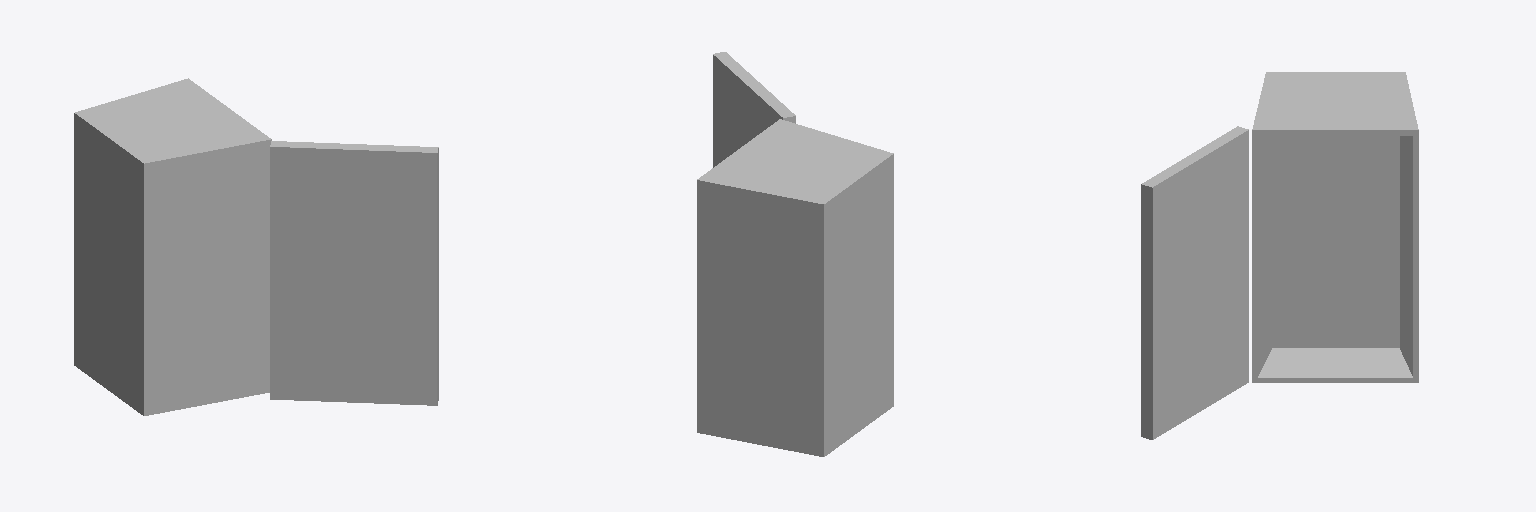
The model's file is FuseBox.obj.
3 renders of one model, left to right at view 1: azimuth 30°, elevation 25°; view 2: azimuth 150°, elevation 25°; view 3: azimuth 270°, elevation 25°, orthographic.
Parts seen in each view (by area): view 1: Case_Cube, Lid_Cube.001; view 2: Case_Cube, Lid_Cube.001; view 3: Case_Cube, Lid_Cube.001.
Boxes of the visible parts, x1,y1,x2,y2 form: Case_Cube: [74, 78, 271, 415]; Lid_Cube.001: [270, 141, 438, 405]; Case_Cube: [697, 119, 893, 456]; Lid_Cube.001: [713, 52, 795, 167]; Case_Cube: [1252, 72, 1418, 382]; Lid_Cube.001: [1141, 126, 1248, 439].
Bounding box in the file's own units: 3.94 × 4 × 3.98.